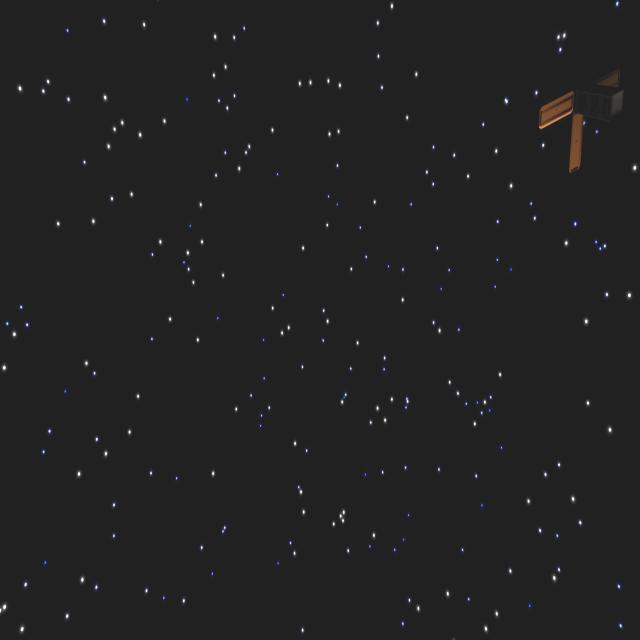medium_debris: (531, 71, 636, 170)
